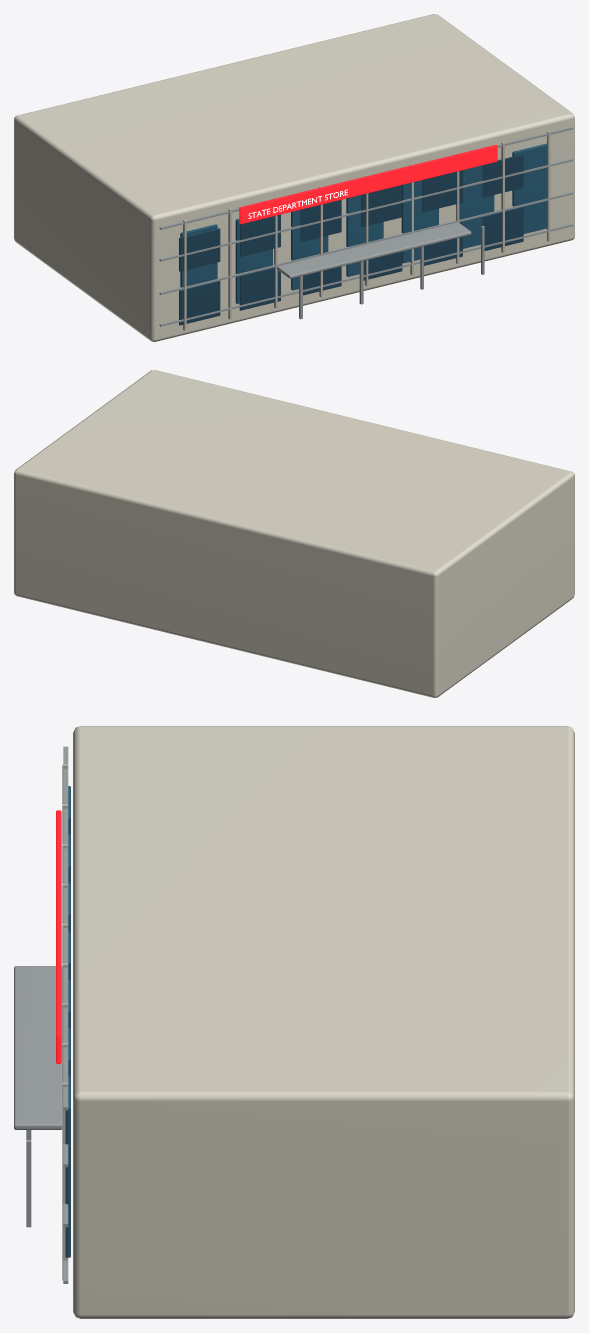
The model's file is hf-state-department-store-study.glb.
The picture shows the model from 3 angles, top to bottom: view 1: azimuth 30°, elevation 25°; view 2: azimuth 150°, elevation 25°; view 3: azimuth 270°, elevation 25°; orthographic projection. The views are drawn at different scales.
Visible parts, largest first — view 1: STATE_DEPT_STORE_BODY, STATE_STORE_DISPLAY_WINDOW, STATE_STORE_FACADE_BAY, STATE_STORE_CANOPY_SUPPORT, STATE_STORE_SIGNBOARD, STATE_STORE_FACADE_PIER; view 2: STATE_DEPT_STORE_BODY; view 3: STATE_DEPT_STORE_BODY, STATE_STORE_CANOPY_SUPPORT, STATE_STORE_FACADE_BAY, STATE_STORE_SIGNBOARD, STATE_STORE_FACADE_PIER.
Part boxes in pixels (x1,y1,x2,y2): STATE_DEPT_STORE_BODY: [14, 14, 574, 341]; STATE_STORE_DISPLAY_WINDOW: [179, 154, 523, 325]; STATE_STORE_FACADE_BAY: [180, 143, 547, 303]; STATE_STORE_CANOPY_SUPPORT: [159, 126, 573, 326]; STATE_STORE_SIGNBOARD: [239, 145, 497, 224]; STATE_STORE_FACADE_PIER: [183, 131, 550, 330]; STATE_DEPT_STORE_BODY: [14, 370, 574, 697]; STATE_DEPT_STORE_BODY: [73, 726, 574, 1318]; STATE_STORE_CANOPY_SUPPORT: [14, 746, 68, 1283]; STATE_STORE_FACADE_BAY: [65, 786, 70, 1257]; STATE_STORE_SIGNBOARD: [56, 810, 61, 1063]; STATE_STORE_FACADE_PIER: [62, 764, 67, 1280].
Size of the model in its own units: 28 by 8 by 17.88.
